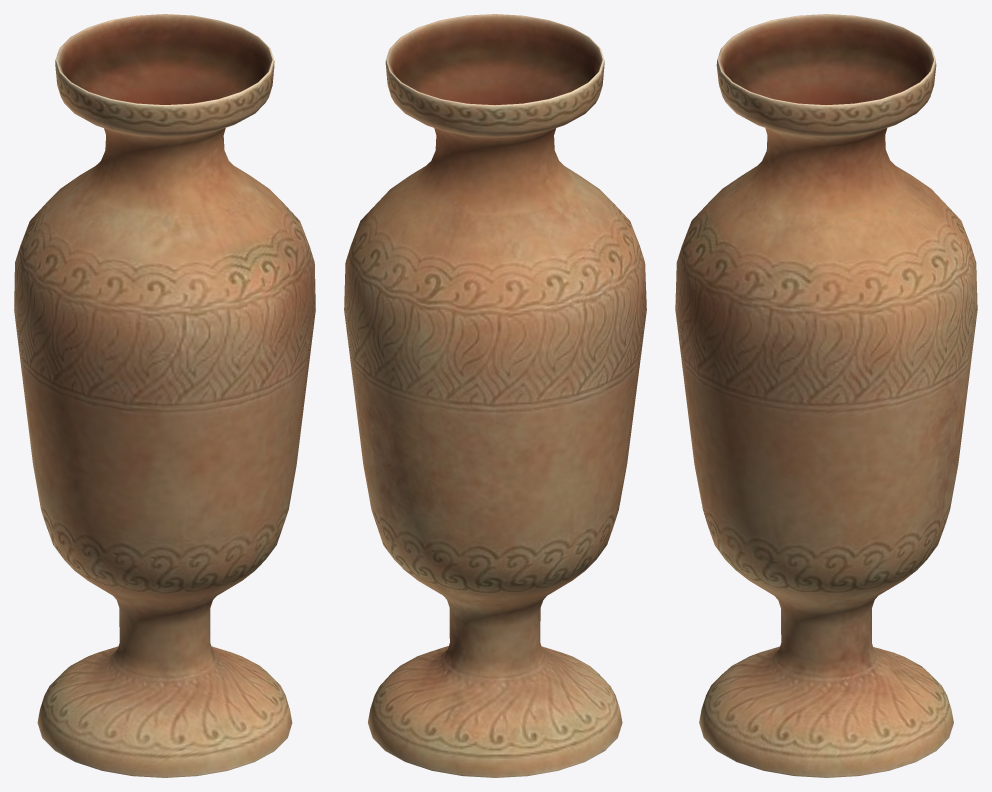
File: vase-brass-a.glb
3 views of the same model, side by side, from view 1: azimuth 30°, elevation 25°; view 2: azimuth 150°, elevation 25°; view 3: azimuth 270°, elevation 25° (orthographic).
Visible parts, largest first — view 1: vase-brass-a; view 2: vase-brass-a; view 3: vase-brass-a.
Boxes of the visible parts, <box> form: vase-brass-a: <box>14,14,315,777</box>; vase-brass-a: <box>344,14,646,777</box>; vase-brass-a: <box>675,14,977,777</box>.
Bounding box in the file's own units: 0.0825 × 0.2004 × 0.0825.
Materials: 1 (1 with a texture image).
